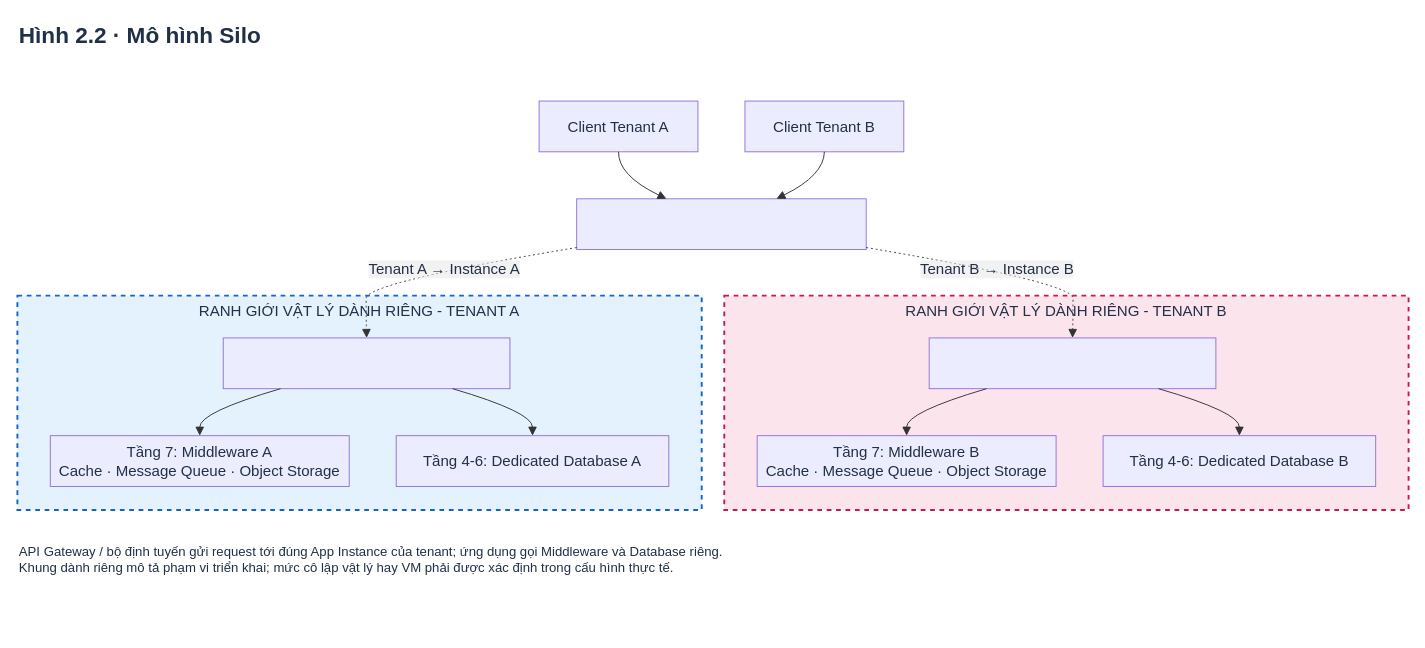
Image size: 1425x648. Some labels were removed from this diagram. The shapes that lost their labels are listed below. From the top down, each one's centre as x and y in pixels, then its label:
At point 721,224: "API Gateway / Bộ định tuyến chung".
At point 366,363: "Tầng 8-9: App Server & Instance A".
At point 1072,363: "Tầng 8-9: App Server & Instance B".
